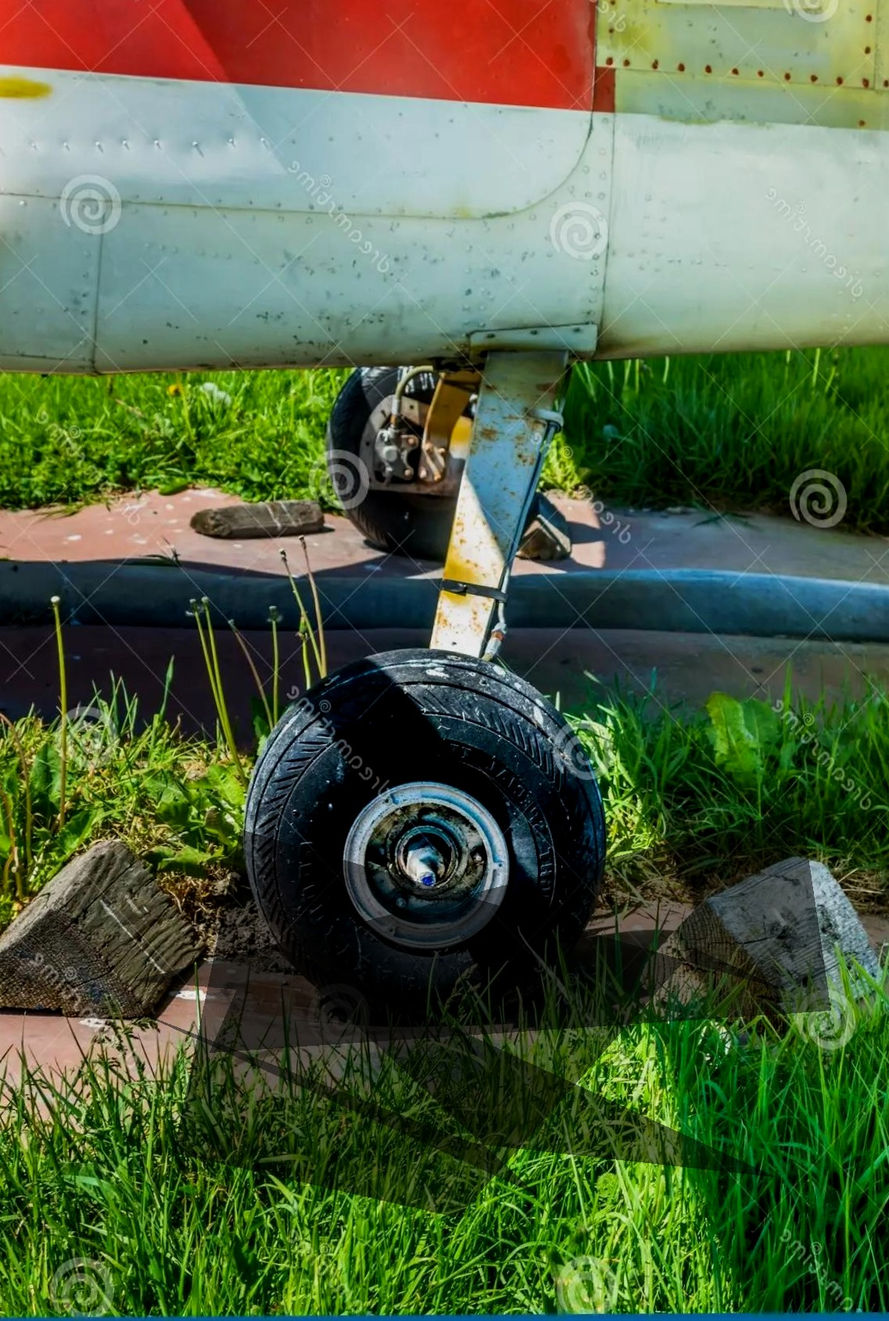chock: (637, 833, 889, 1046), (0, 819, 210, 1035), (514, 477, 575, 568)
wheel: (249, 646, 610, 1016), (330, 361, 461, 554)
